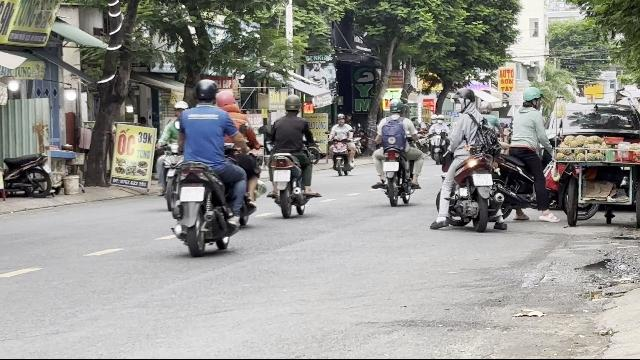helmet: (192, 79, 218, 105), (456, 87, 476, 112), (521, 86, 543, 108), (215, 89, 235, 111), (282, 94, 300, 114), (388, 99, 404, 115)
licenseplate: (180, 186, 203, 202), (473, 172, 493, 186), (274, 170, 290, 182), (383, 161, 399, 171)
motorcyclist: (160, 77, 258, 255), (433, 85, 503, 231), (495, 85, 557, 221), (264, 94, 320, 217), (370, 99, 422, 206)
